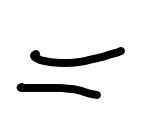eqv: (12, 47, 127, 99)
